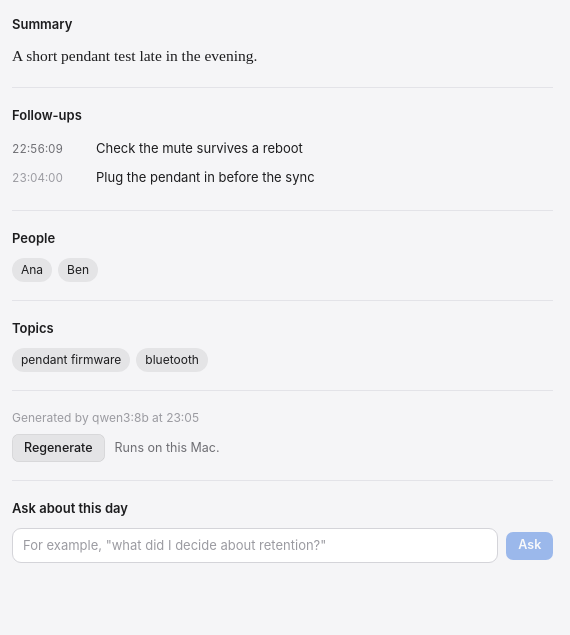
a failed regenerate shows its error above the insight the day keeps
The image size is (570, 635).
Step 1. Click the button "Regenerate" → (58, 448), box [12,434,105,462]
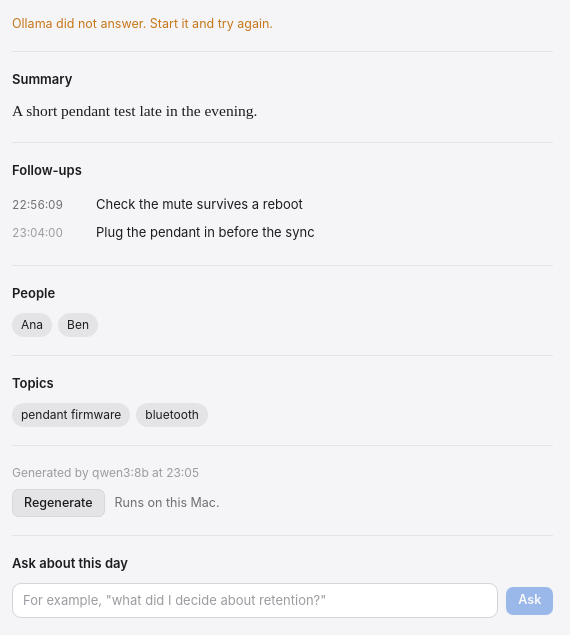
Expected: the text "A short pendant test late in the evening." is shown, [12,102,257,119]
Expected: the message reads "Ollama did not answer. Start it and try again.", [12,16,273,31]
